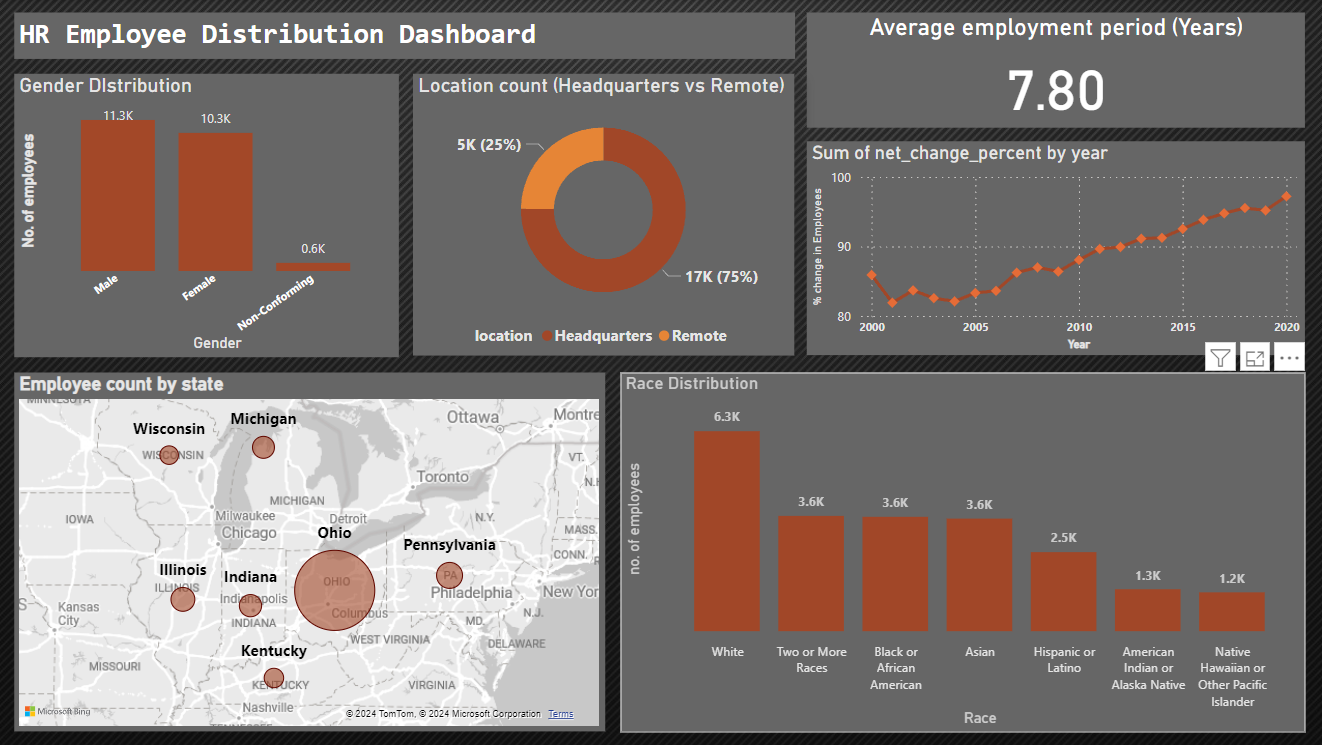

The page's visual inventory and layout, read from the dashboard file:
{"tool":"powerbi","page":{"name":"Page 1","canvas":[1280,720],"ordinal":0},"visuals":[{"type":"textbox","box":[15.6,12.2,753.3,44.4],"z":0},{"type":"card","title":"Average employment period (Years)","fields":{"Values":["Sum(employment_period_average.avg_employment_length)"]},"box":[781.1,12.2,481.1,111.1],"z":1000},{"type":"columnChart","title":"Gender DIstribution ","fields":{"Category":["gender_distribution.gender"],"Y":["Sum(gender_distribution.count(*))"]},"box":[15.6,71.1,371.1,273.3],"z":2000},{"type":"donutChart","title":"Location count (Headquarters vs Remote)","fields":{"Category":["location count.location"],"Y":["Sum(location count.count(*))"]},"box":[401.1,71.1,367.8,272.2],"z":3000},{"type":"map","title":"Employee count by state","fields":{"Size":["Sum(emp distribution across state city.employee_count)"],"Category":["emp distribution across state city.location_state"]},"box":[15.6,360,570,346.7],"z":4000},{"type":"lineChart","fields":{"Y":["Sum(change in employee count over the years.net_change_percent)"],"Category":["change in employee count over the years.year"]},"box":[781.1,136.7,481.1,206.7],"z":5000},{"type":"clusteredColumnChart","title":"Race Distribution ","fields":{"Y":["Sum(race_breakdown.count(*))"],"Category":["race_breakdown.race"]},"box":[601.1,360,661.1,346.7],"z":6000}]}

Visuals, with their boxes in screenshot pixels (x1, y1, x2, y2), scaled from the page's 1280x720 canvas onto the 1322x745 screenshot:
textbox: [left=16, top=13, right=794, bottom=59]
"Average employment period (Years)" card: [left=807, top=13, right=1304, bottom=128]
"Gender DIstribution " columnChart: [left=16, top=74, right=399, bottom=356]
"Location count (Headquarters vs Remote)" donutChart: [left=414, top=74, right=794, bottom=355]
"Employee count by state" map: [left=16, top=373, right=605, bottom=731]
lineChart - Sum(change in employee count over the years.net_change_percent) x change in employee count over the years.year: [left=807, top=141, right=1304, bottom=355]
"Race Distribution " clusteredColumnChart: [left=621, top=373, right=1304, bottom=731]
